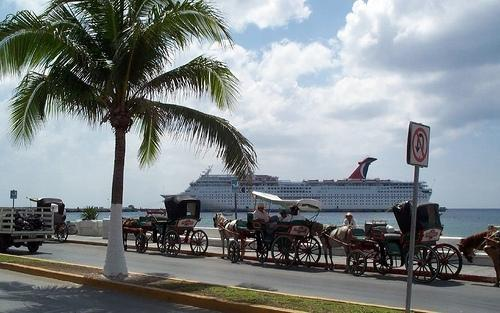truck: (0, 207, 54, 252)
